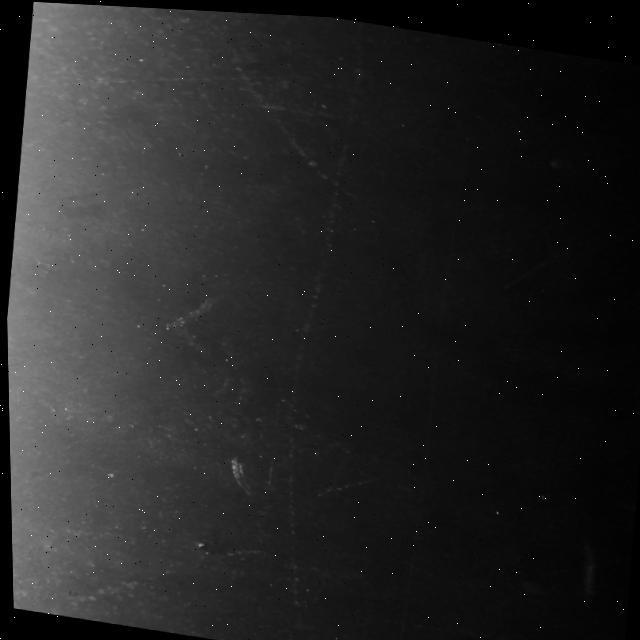beta: (247, 10, 381, 640), (215, 55, 410, 221), (65, 519, 263, 636), (27, 36, 282, 123), (348, 606, 570, 640), (497, 231, 577, 293), (536, 534, 630, 582), (310, 464, 375, 503), (335, 632, 435, 640)
